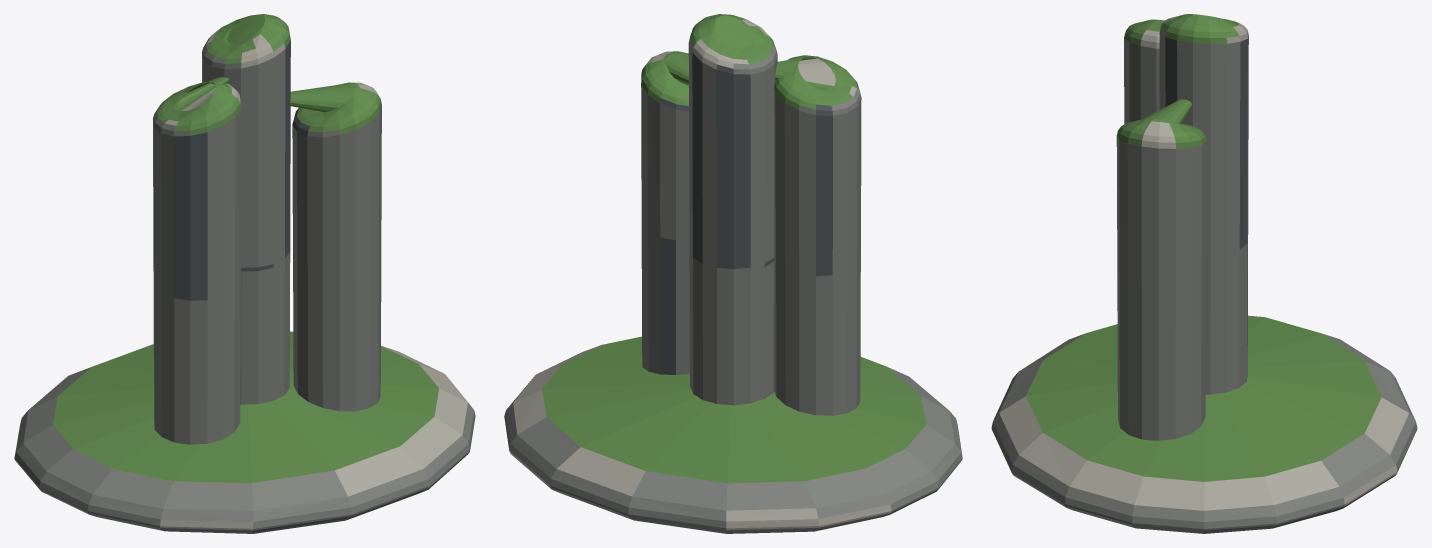
Rendered from CliffPieceFar.obj.
The picture shows the model from 3 angles, left to right: view 1: azimuth 30°, elevation 25°; view 2: azimuth 150°, elevation 25°; view 3: azimuth 270°, elevation 25°; orthographic projection.
Bounding box in the file's own units: 6.8 × 7.08 × 6.04.
